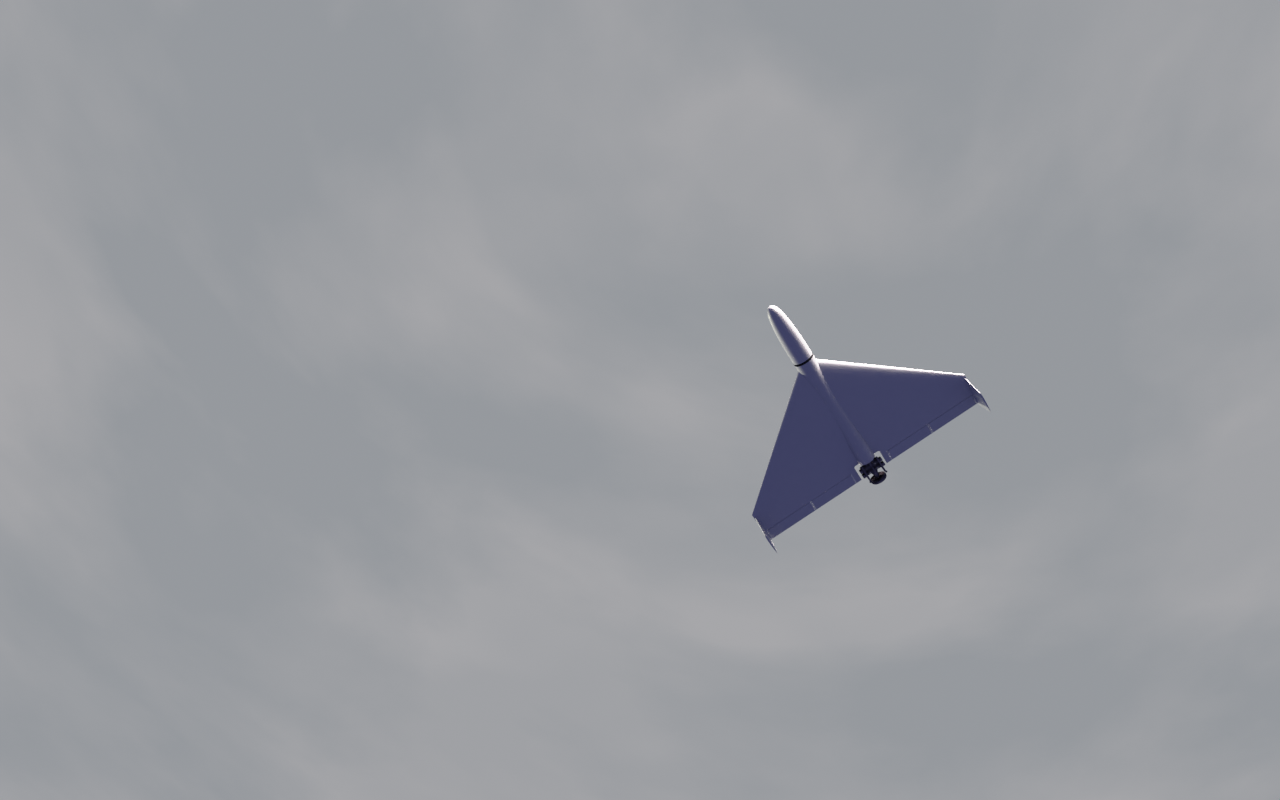shahed: (752, 306, 993, 555)
